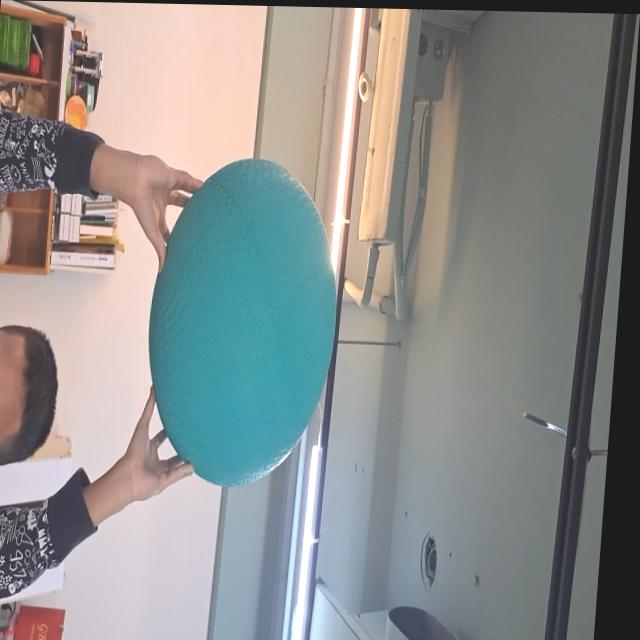ALGAE: (136, 157, 347, 490)
